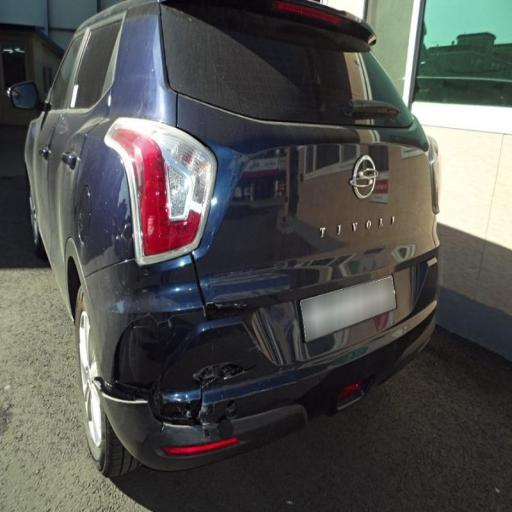broken: (73, 334, 254, 468)
scratch: (74, 126, 178, 265), (248, 266, 364, 372)
